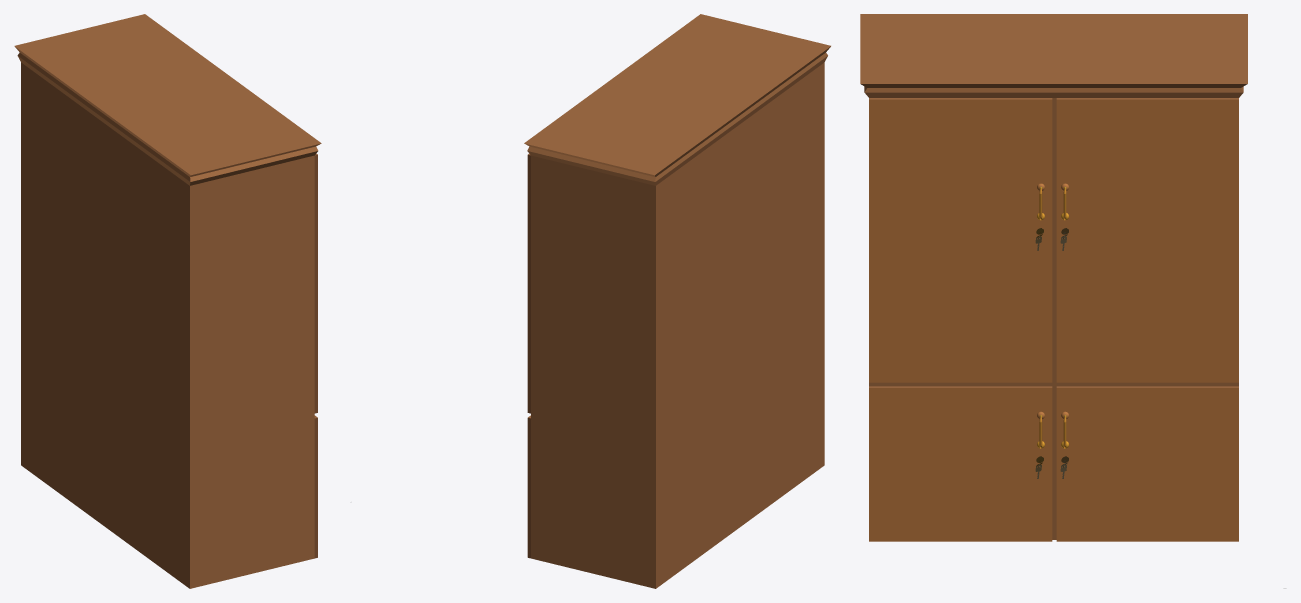
The model's file is lemari.gltf.
3 views of the same model, side by side, from view 1: azimuth 30°, elevation 25°; view 2: azimuth 150°, elevation 25°; view 3: azimuth 270°, elevation 25° (orthographic). The views are drawn at different scales.
Visible parts, largest first — view 1: Plane; view 2: Plane; view 3: Plane.
Boxes of the visible parts, bbox=[...] form: Plane: bbox=[14, 14, 321, 588]; Plane: bbox=[524, 14, 830, 588]; Plane: bbox=[860, 14, 1247, 541].
Bounding box in the file's own units: 1.76 × 2.45 × 2.07.
